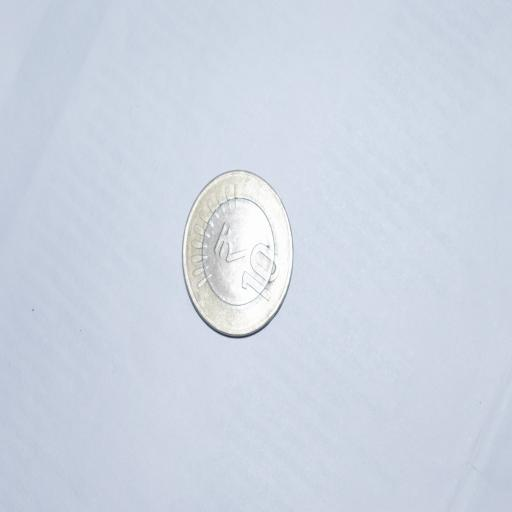rupee10: (178, 167, 298, 344)
